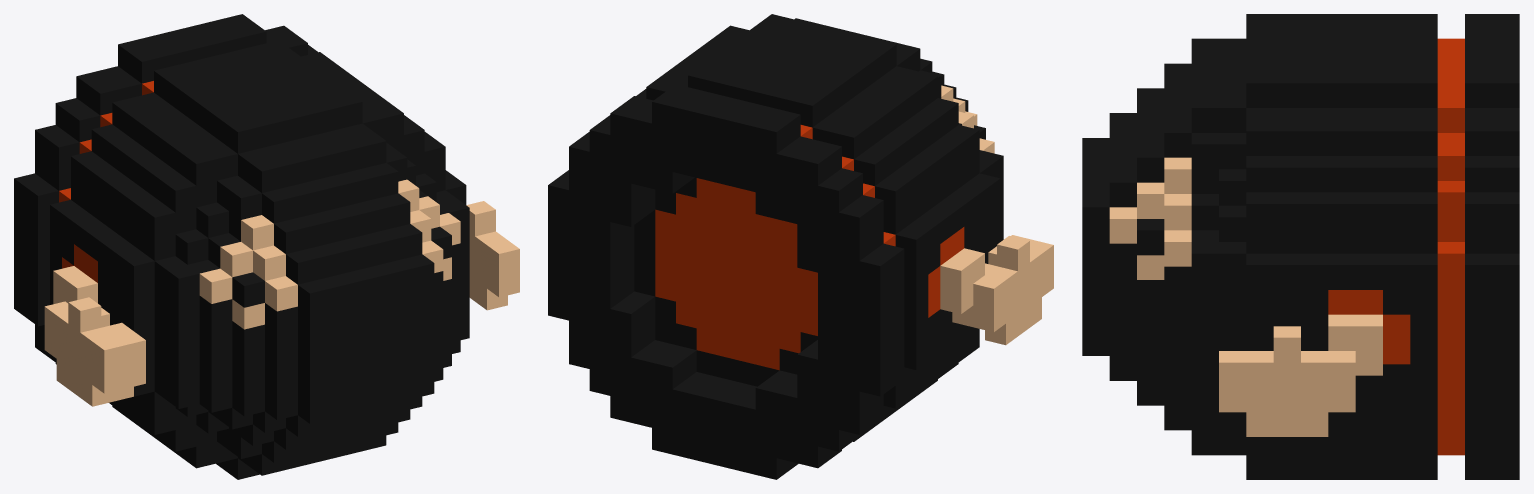
The model's file is Bullet_Bill.obj.
3 views of the same model, side by side, from view 1: azimuth 30°, elevation 25°; view 2: azimuth 150°, elevation 25°; view 3: azimuth 270°, elevation 25° (orthographic). The views are drawn at different scales.
Size of the model in its own units: 20 by 16 by 16.
Materials: 1 (1 with a texture image).
